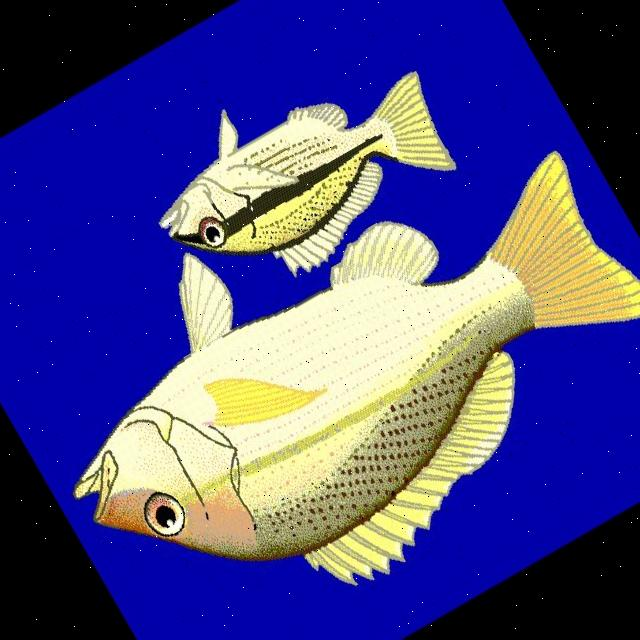ikan: (0, 61, 640, 640), (124, 16, 478, 328)
